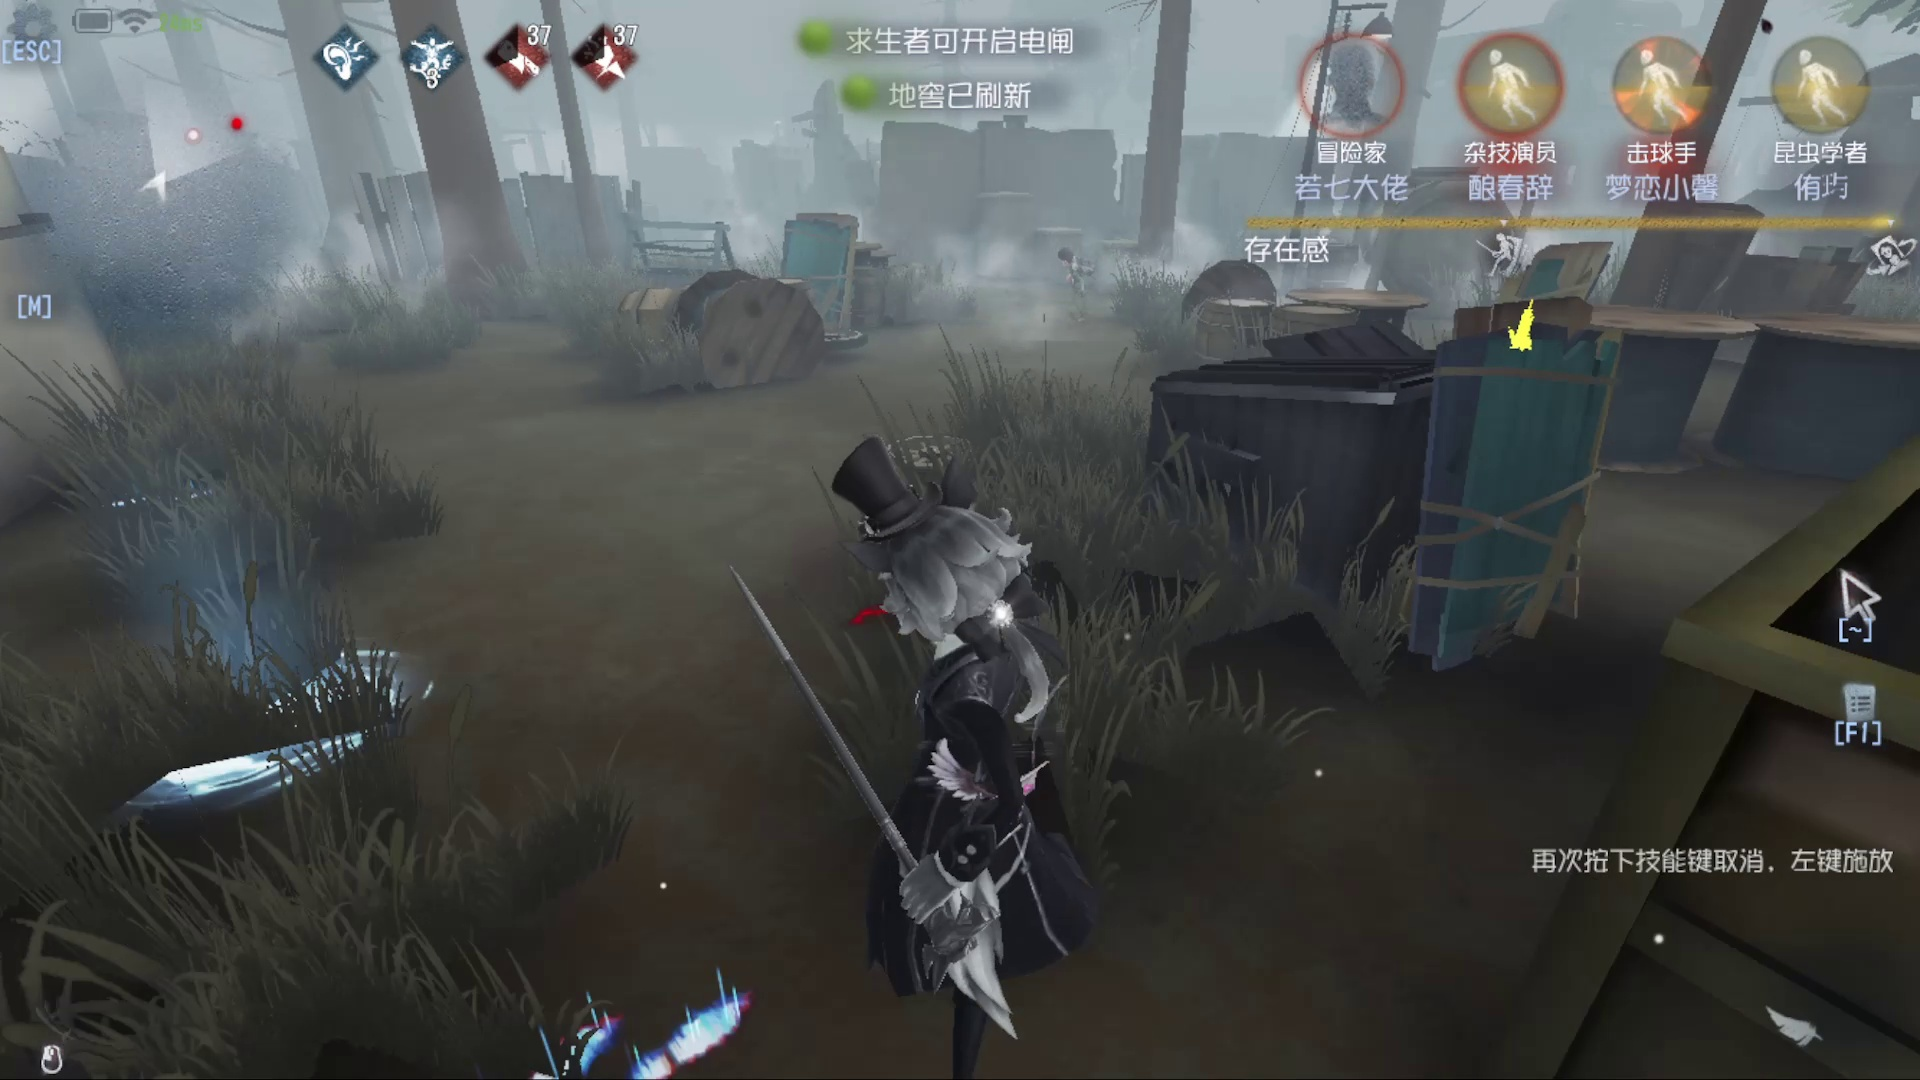木板: (1420, 269, 1596, 673), (752, 185, 874, 352)
求生者: (1036, 223, 1124, 340)
